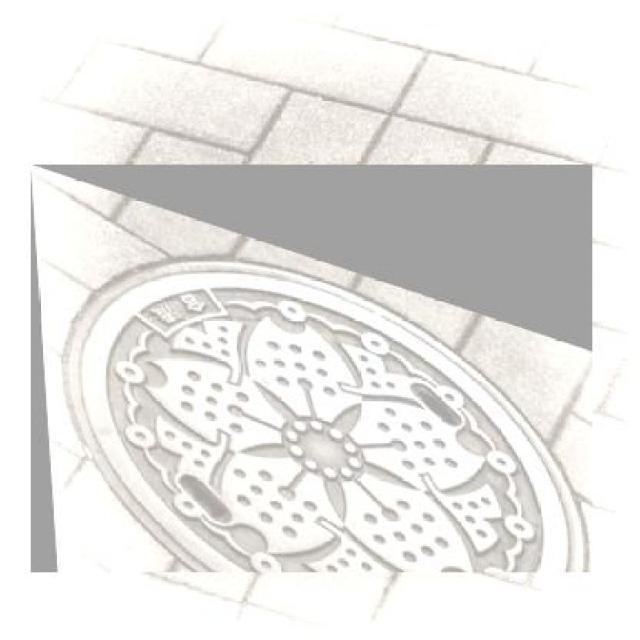Manhole: (30, 165, 592, 572)
